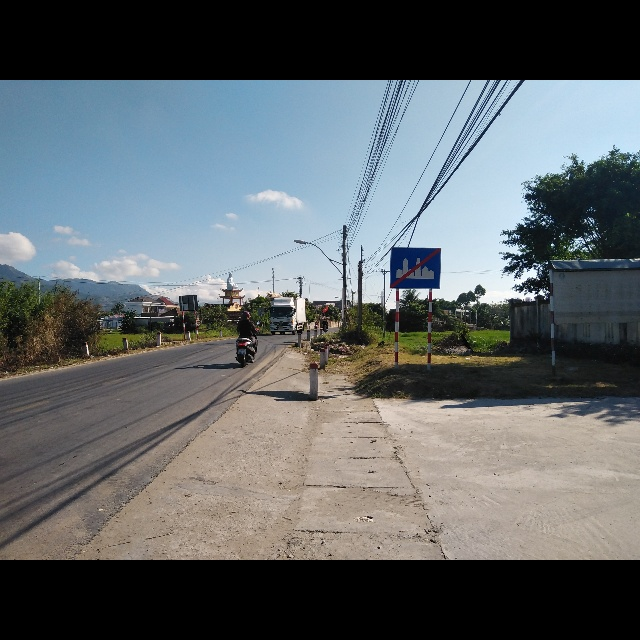Hết khu đông dân cư: (388, 247, 442, 290)
